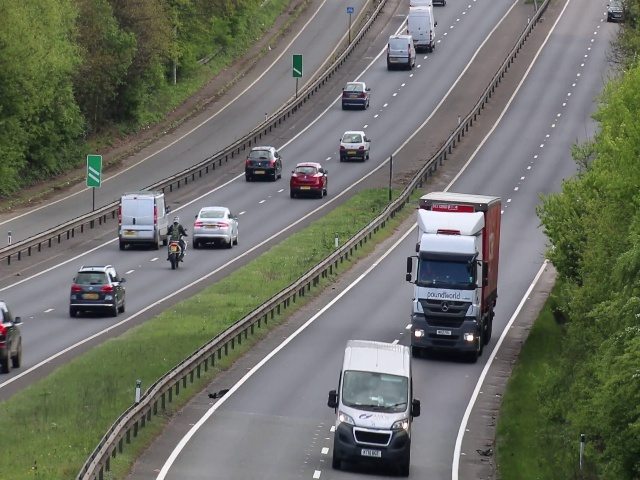car: (332, 339, 412, 477), (409, 232, 481, 359), (66, 262, 126, 315), (116, 191, 167, 247), (191, 205, 241, 249), (289, 161, 330, 199), (242, 144, 284, 181), (1, 300, 24, 366), (337, 128, 370, 164), (409, 7, 436, 50), (387, 35, 417, 69), (340, 80, 370, 110)
